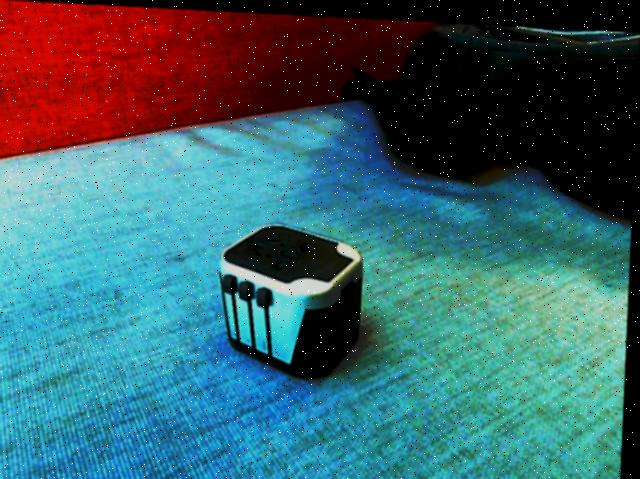adapter: (217, 217, 367, 377)
